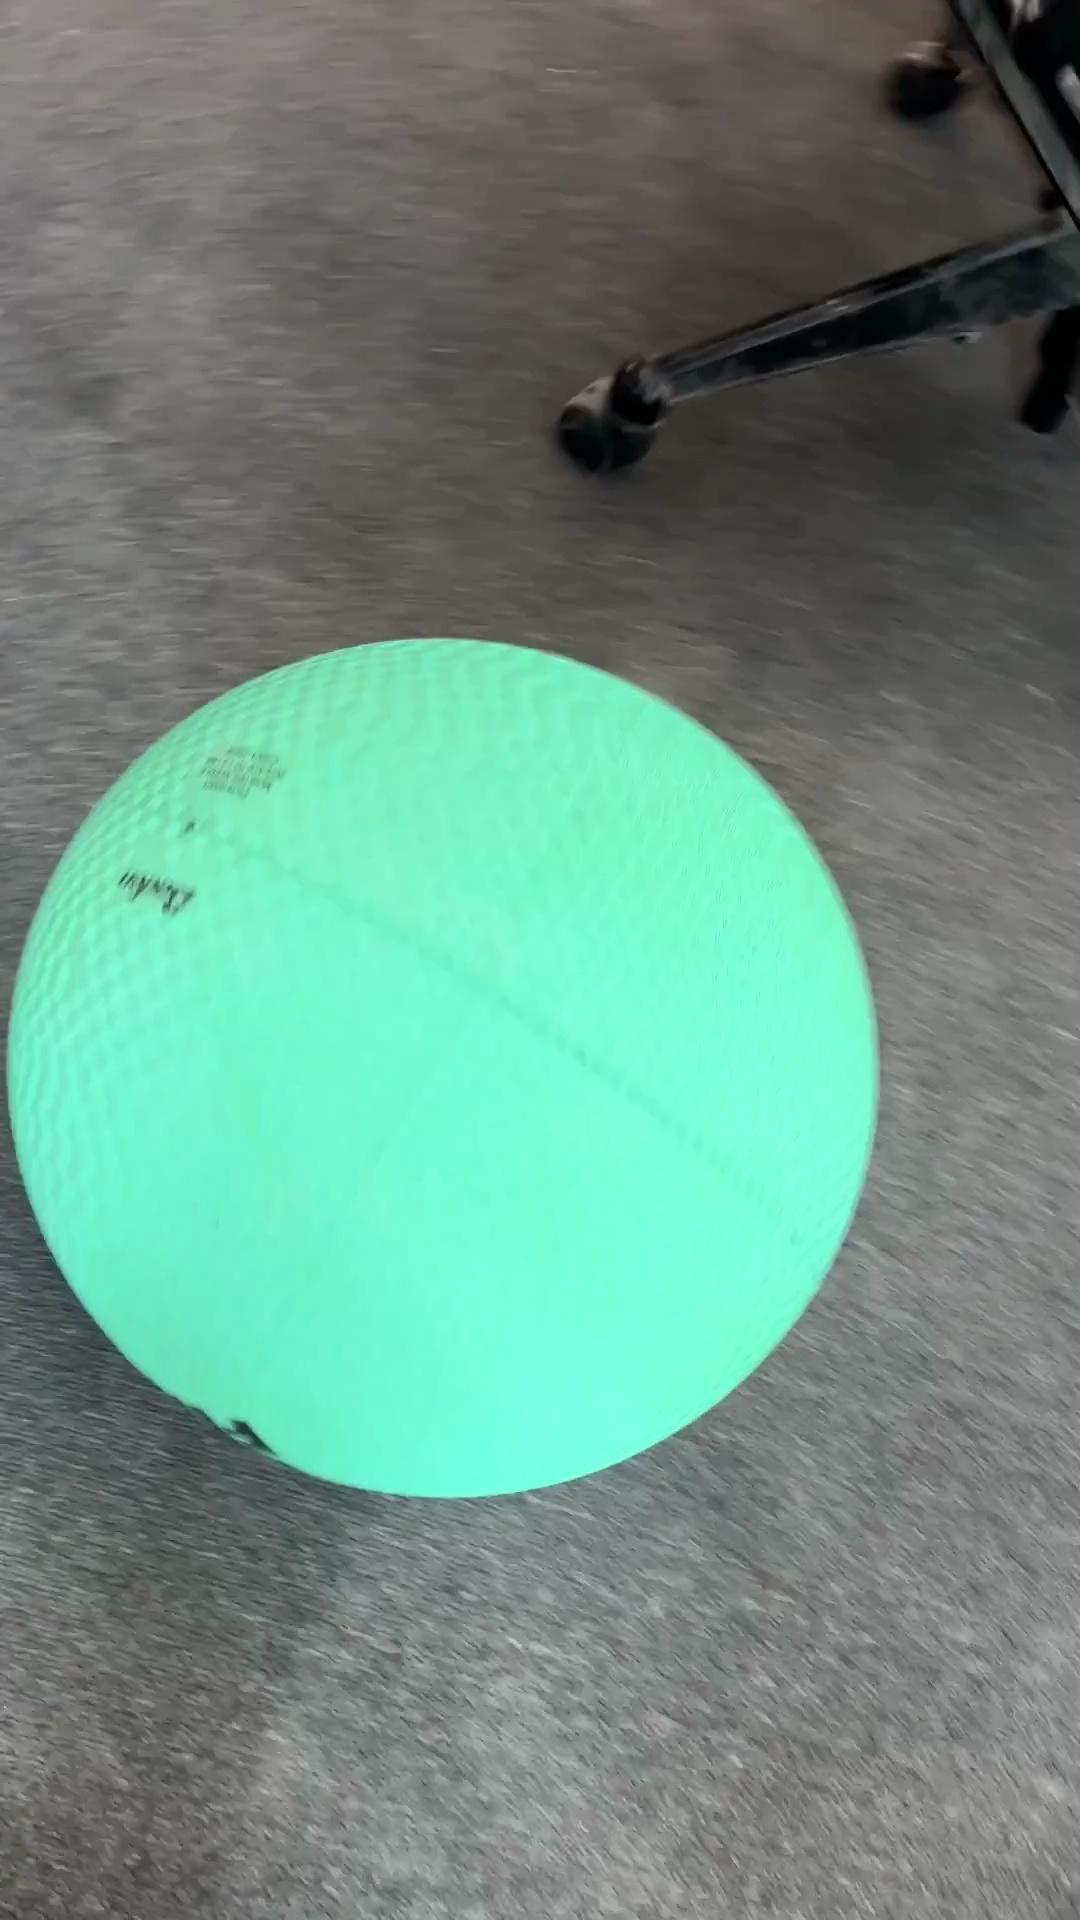ALGAE: (4, 632, 881, 1501)
